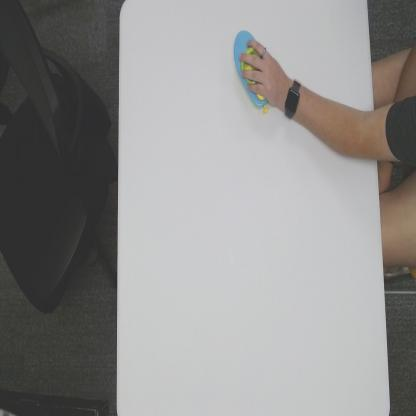Arm: (303, 86, 377, 164)
Boat: (233, 27, 269, 117)
Hand: (240, 37, 281, 108)
